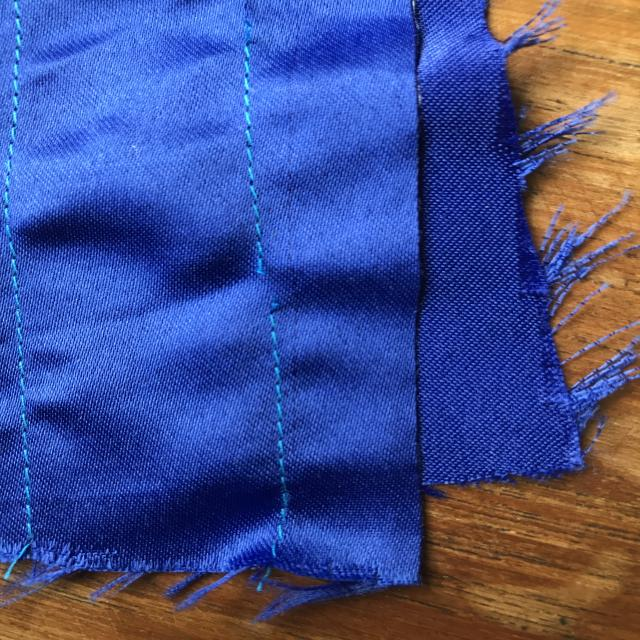broken: (229, 233, 301, 341)
